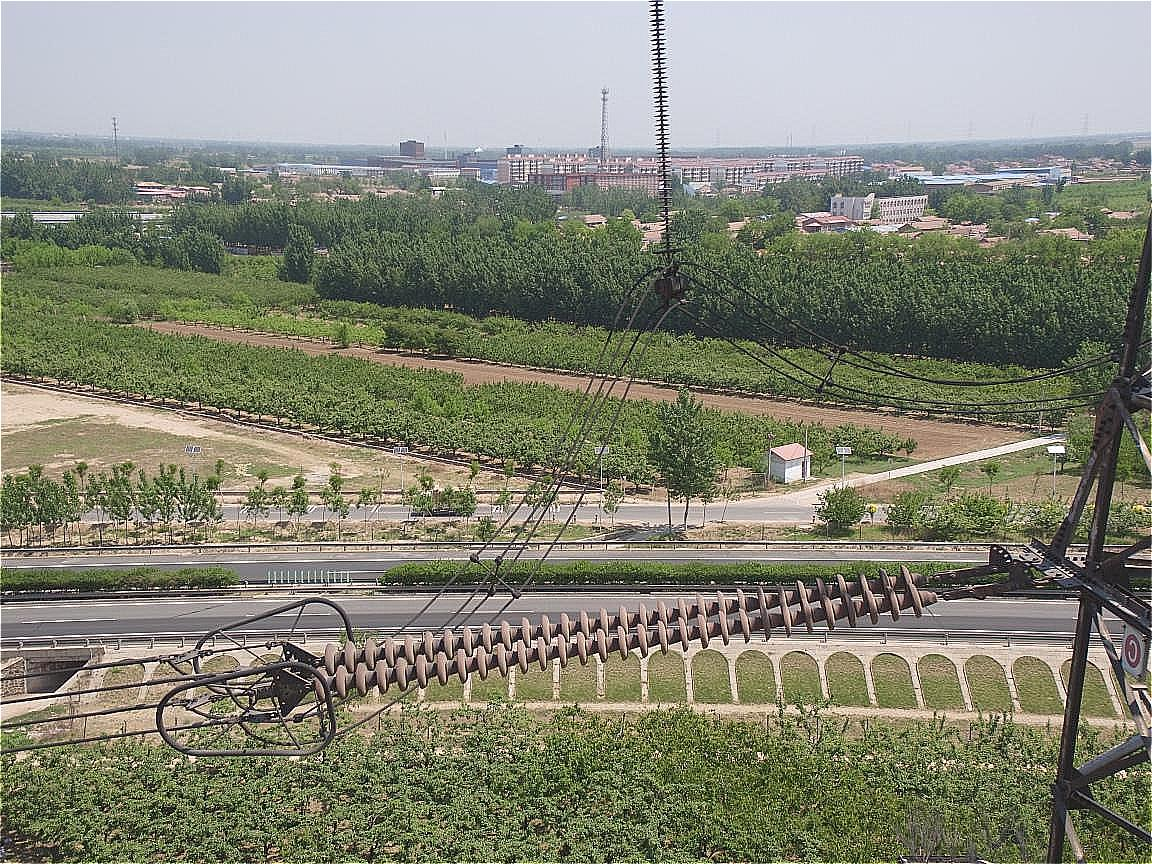insultor1: (295, 559, 964, 708)
